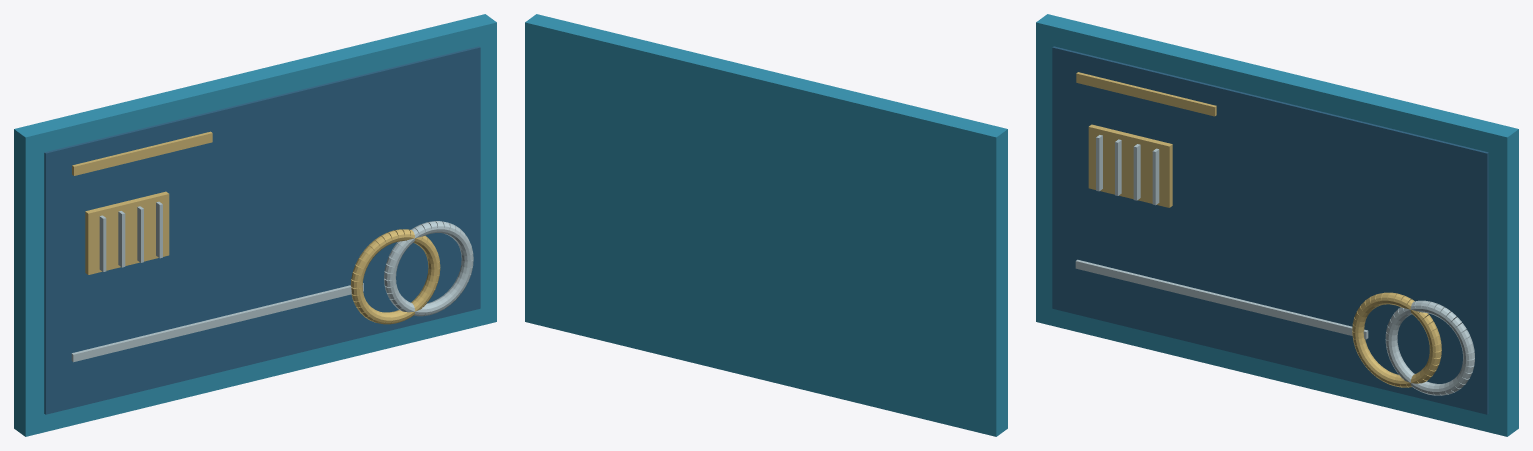
Rendered from credito.glb.
3 views of the same model, side by side, from view 1: azimuth 30°, elevation 25°; view 2: azimuth 150°, elevation 25°; view 3: azimuth 330°, elevation 25° (orthographic).
Parts seen in each view (by area): view 1: card_inset, card_body, chip, account_line, brand_accent; view 2: card_body; view 3: card_inset, card_body, chip, account_line, brand_accent.
Part boxes in pixels (x1,y1,x2,y2): card_inset: [44, 46, 480, 414]; card_body: [14, 14, 496, 436]; chip: [85, 191, 169, 274]; account_line: [71, 283, 363, 362]; brand_accent: [72, 131, 212, 175]; card_body: [525, 14, 1007, 436]; card_inset: [1052, 46, 1488, 414]; card_body: [1036, 14, 1518, 436]; chip: [1088, 124, 1172, 207]; account_line: [1075, 259, 1368, 339]; brand_accent: [1076, 72, 1216, 116].
Bounding box in the file's own units: 4.25 × 2.58 × 0.3175.
